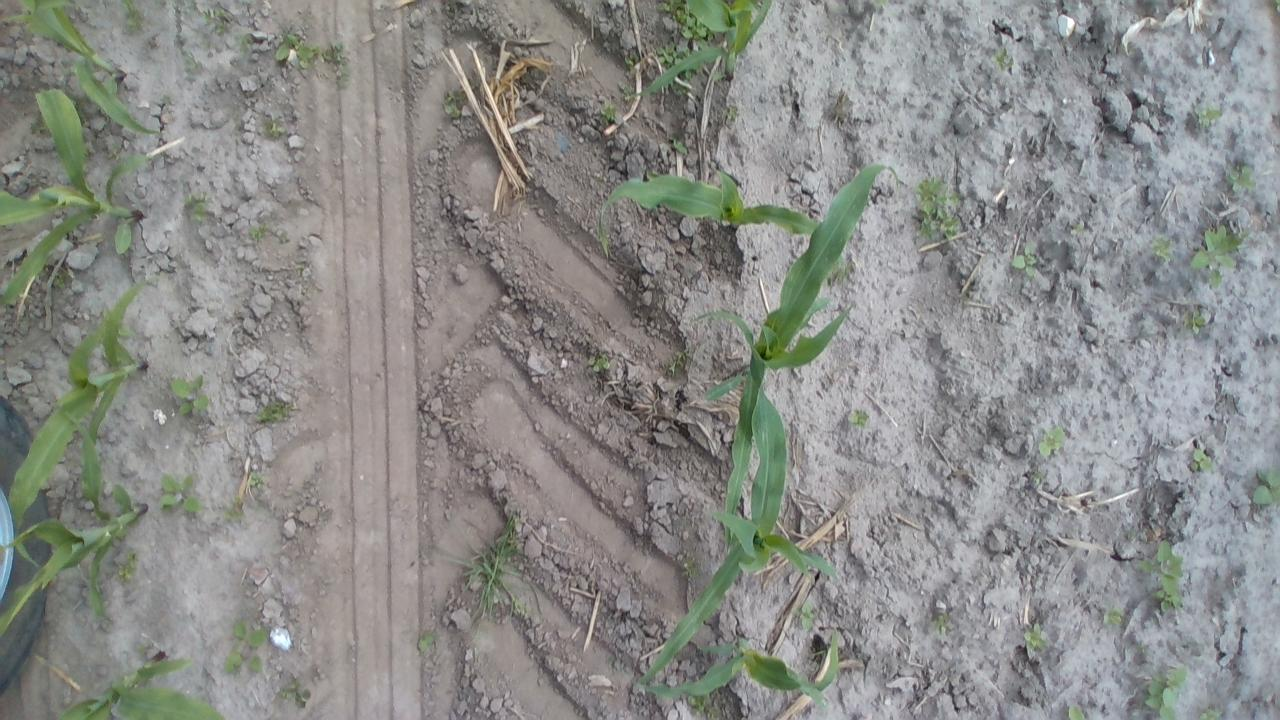Maize: (695, 163, 903, 550), (637, 384, 839, 684), (11, 276, 150, 564), (1, 409, 148, 639), (2, 88, 144, 308), (598, 162, 821, 256), (17, 0, 165, 138), (646, 626, 838, 720), (628, 0, 772, 101), (55, 658, 227, 720)
Weeds: (451, 512, 542, 622), (1193, 226, 1248, 290), (1136, 538, 1184, 611), (916, 178, 962, 241), (1144, 664, 1186, 716), (226, 618, 264, 674), (660, 2, 706, 38), (170, 376, 210, 416), (158, 474, 197, 512), (277, 31, 316, 64), (278, 678, 314, 708), (1252, 466, 1279, 506), (324, 42, 352, 78), (1226, 163, 1256, 194), (1009, 242, 1036, 275), (1038, 426, 1066, 457), (254, 400, 290, 424), (120, 0, 148, 28), (1022, 622, 1050, 650), (1198, 100, 1222, 127), (652, 42, 682, 63), (204, 7, 230, 30), (1150, 236, 1172, 260), (118, 550, 136, 578), (1191, 450, 1212, 474), (799, 602, 817, 629), (225, 496, 243, 522), (686, 696, 712, 713), (1184, 311, 1206, 331), (669, 350, 686, 375), (588, 357, 612, 374), (1100, 606, 1122, 624), (992, 50, 1010, 72), (418, 628, 434, 652), (937, 612, 956, 632), (444, 91, 458, 117), (681, 560, 700, 578), (848, 410, 868, 426), (269, 118, 283, 140), (600, 103, 618, 119), (239, 33, 253, 53), (184, 194, 211, 204), (674, 138, 689, 156), (30, 118, 45, 134), (1068, 704, 1082, 720), (1200, 708, 1222, 718), (250, 222, 264, 237), (132, 644, 150, 654), (250, 472, 265, 484), (53, 273, 65, 287), (193, 210, 206, 221), (1272, 0, 1280, 12), (870, 0, 889, 5)
